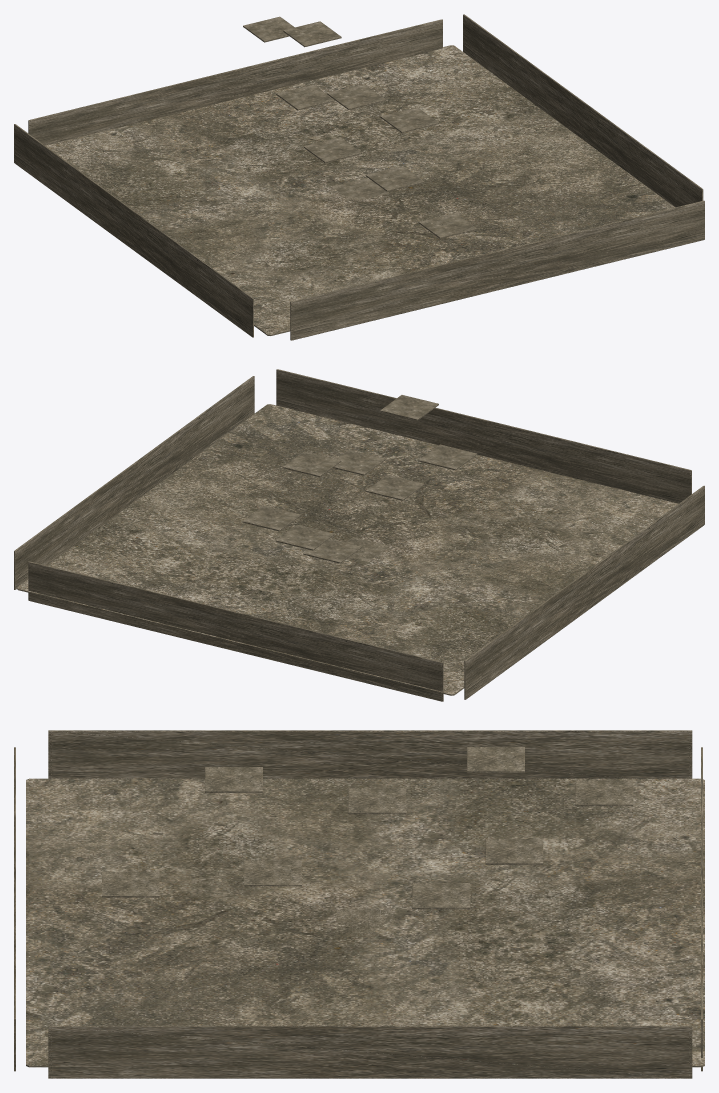
File: block.glb
3 renders of one model, top to bottom at view 1: azimuth 30°, elevation 25°; view 2: azimuth 150°, elevation 25°; view 3: azimuth 270°, elevation 25°, orthographic. The views are drawn at different scales.
Parts seen in each view (by area): view 1: platform (×14); view 2: platform (×14); view 3: platform (×14).
Boxes of the visible parts, x1=… form: platform (×14): x1=14, y1=14, x2=704, y2=340; platform (×14): x1=14, y1=369, x2=704, y2=701; platform (×14): x1=14, y1=730, x2=704, y2=1078.
Size of what is drawn, in the model's own units: 74.34 by 20.67 by 73.26.
Materials: 1 (1 with a texture image).
